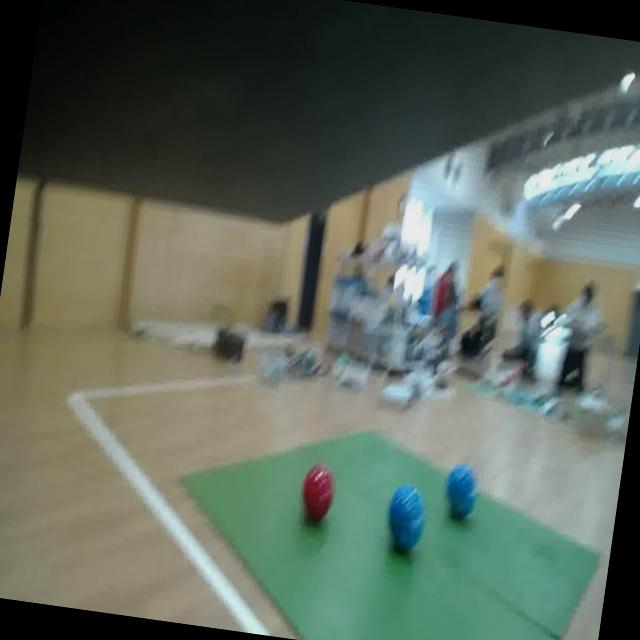blue_ball: (380, 480, 434, 559), (441, 458, 486, 522)
red_ball: (296, 458, 340, 530)
